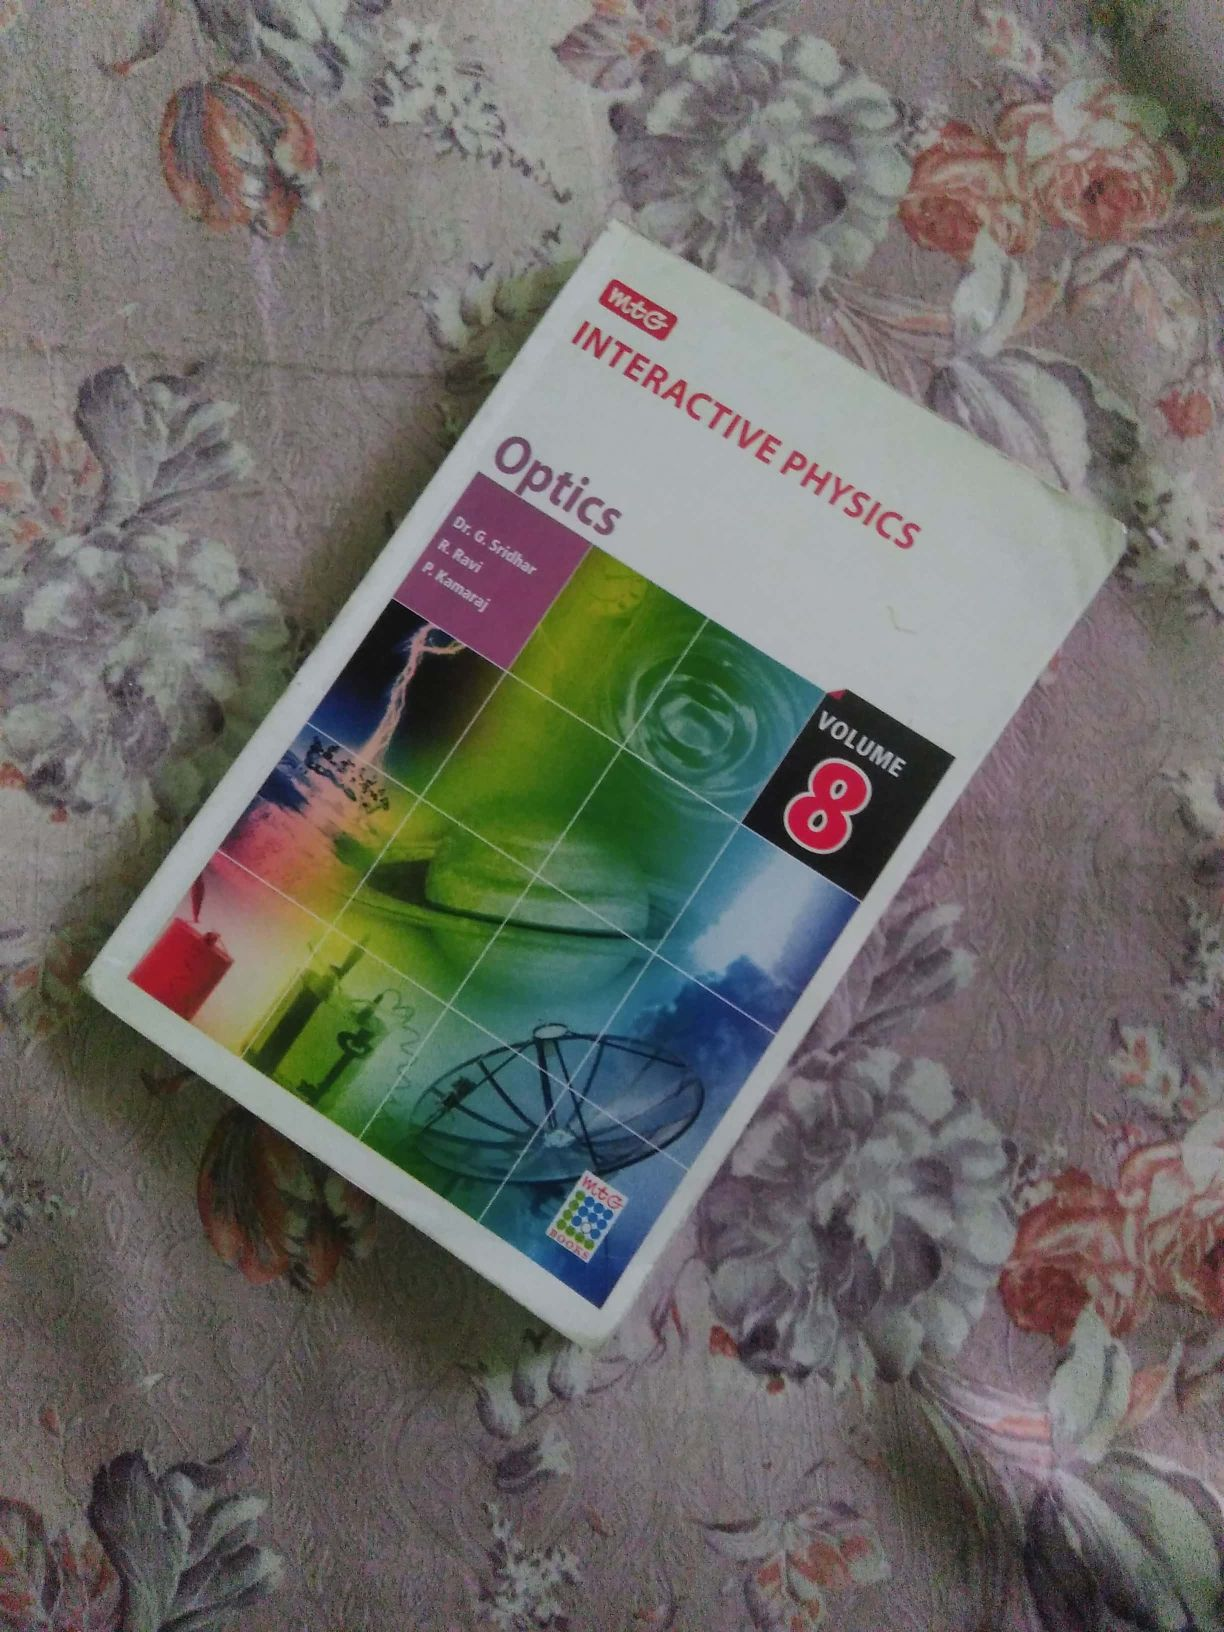optics: (111, 236, 1103, 1390)
